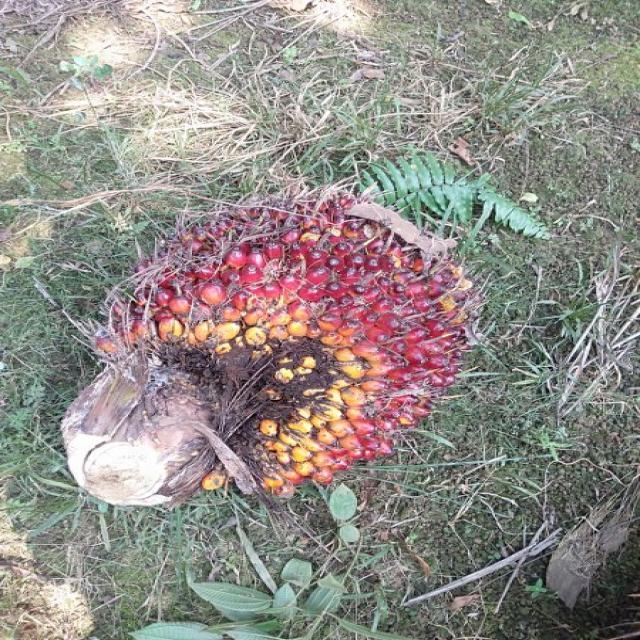fraksi 1: (38, 162, 526, 578)
